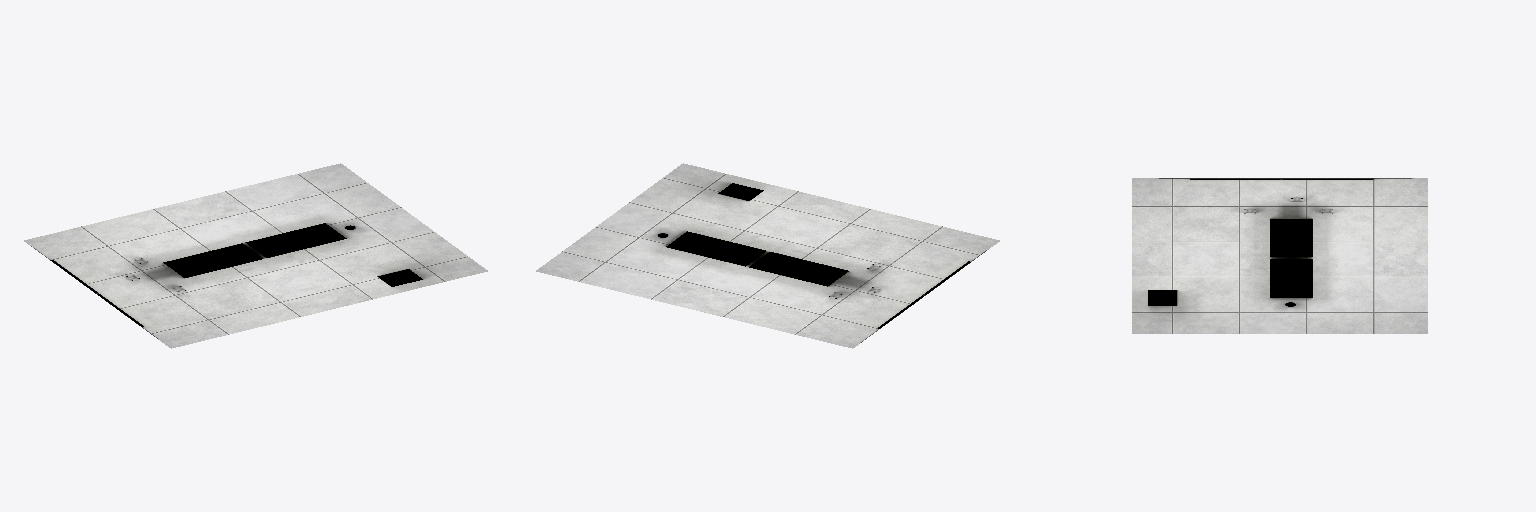
The picture shows the model from 3 angles: view 1: azimuth 30°, elevation 25°; view 2: azimuth 150°, elevation 25°; view 3: azimuth 270°, elevation 25°; orthographic projection.
Parts seen in each view (by area): view 1: Plane.001; view 2: Plane.001; view 3: Plane.001.
Boxes of the visible parts, x1=… form: Plane.001: x1=24, y1=163, x2=487, y2=348; Plane.001: x1=536, y1=163, x2=999, y2=348; Plane.001: x1=1132, y1=178, x2=1427, y2=333.
Bounding box in the file's own units: 59.93 × 0 × 48.27.
1 materials, 1 textured.